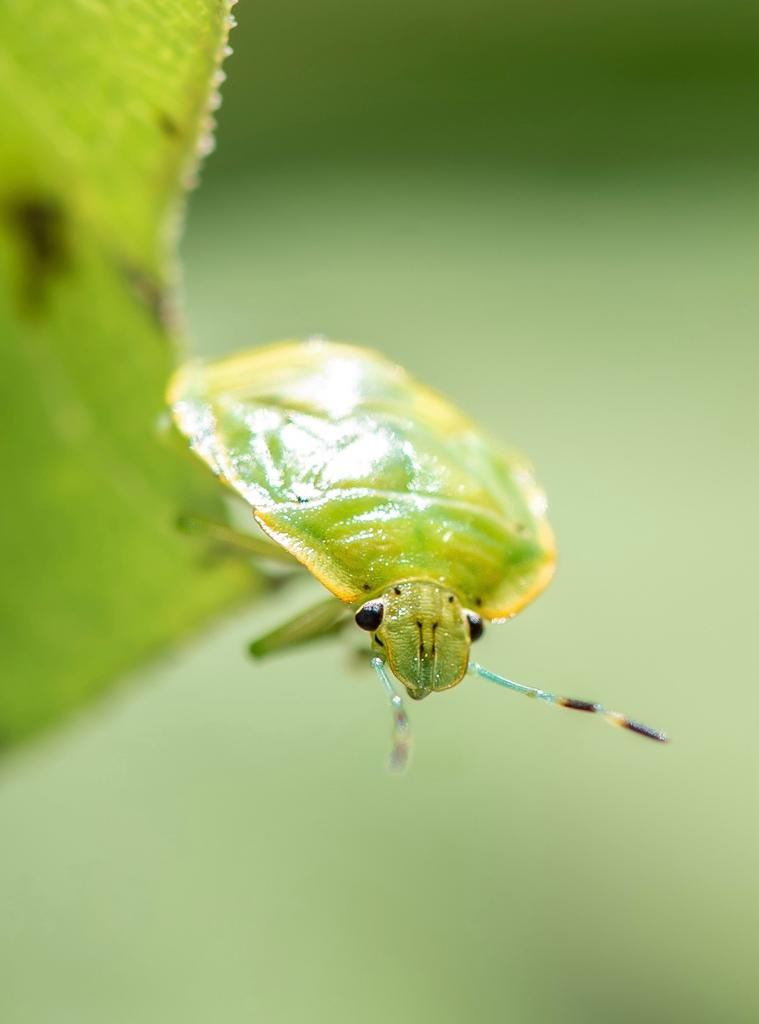stink_bugs: (99, 233, 731, 849)
